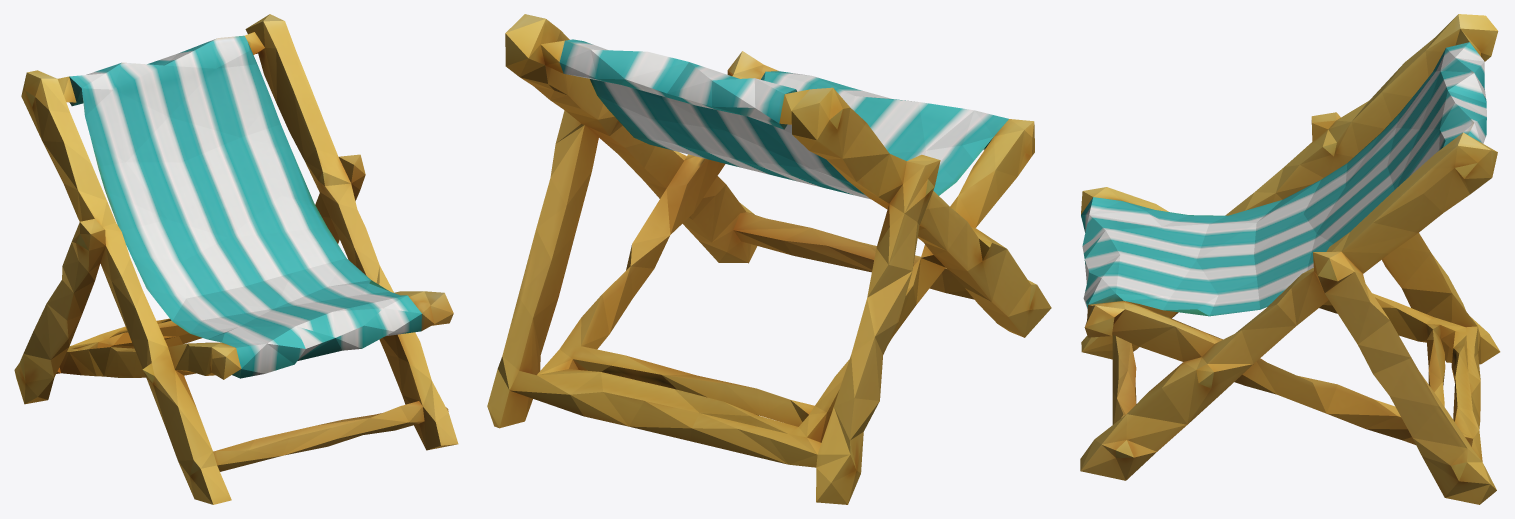
File: beach_chair.glb
3 views of the same model, side by side, from view 1: azimuth 30°, elevation 25°; view 2: azimuth 150°, elevation 25°; view 3: azimuth 270°, elevation 25° (orthographic). The views are drawn at different scales.
Parts seen in each view (by area): view 1: geometry_0; view 2: geometry_0; view 3: geometry_0.
Boxes of the visible parts, x1,y1,x2,y2 form: geometry_0: [14, 14, 458, 504]; geometry_0: [487, 14, 1051, 504]; geometry_0: [1080, 14, 1500, 504].
Size of the model in its own units: 0.8527 by 0.9313 by 0.9967.
1 material, 1 textured.
